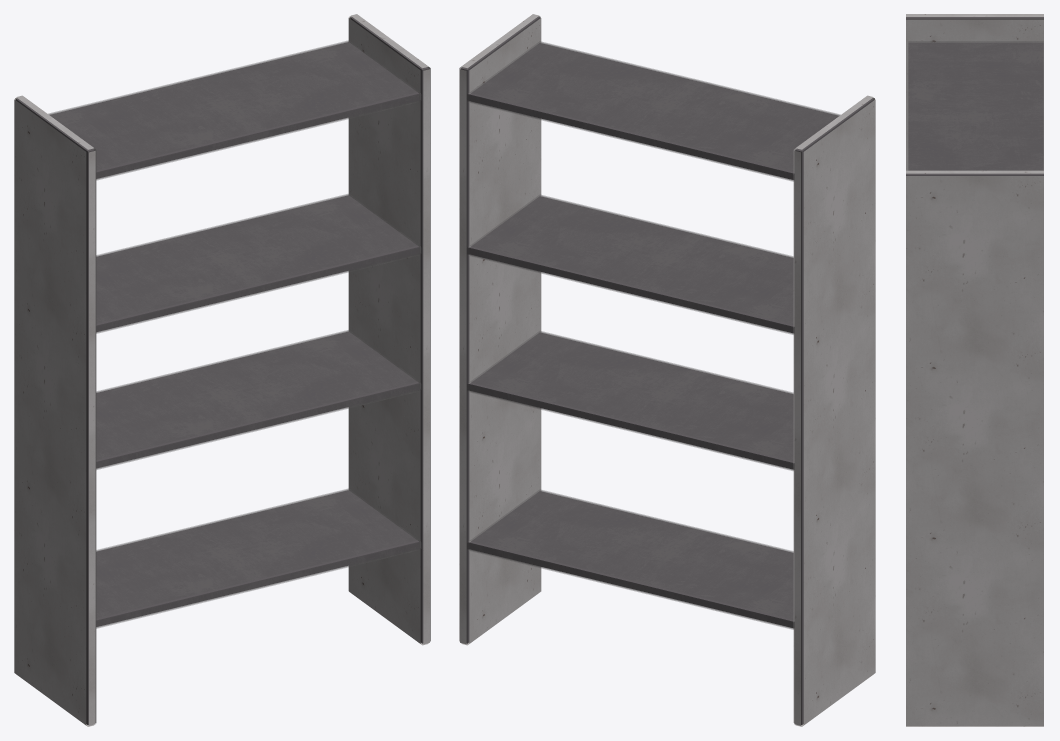
The picture shows the model from 3 angles, left to right: view 1: azimuth 30°, elevation 25°; view 2: azimuth 150°, elevation 25°; view 3: azimuth 270°, elevation 25°; orthographic projection. The views are drawn at different scales.
Visible parts, largest first — view 1: Mesh_0.005, Mesh_2.001, Mesh_1.001; view 2: Mesh_0.005, Mesh_2.001, Mesh_1.001; view 3: Mesh_1.001, Mesh_0.005, Mesh_2.001.
Boxes of the visible parts, bbox=[...] form: Mesh_0.005: bbox=[16, 17, 428, 724]; Mesh_2.001: bbox=[48, 40, 421, 628]; Mesh_1.001: bbox=[14, 14, 430, 726]; Mesh_0.005: bbox=[461, 17, 873, 724]; Mesh_2.001: bbox=[467, 41, 840, 629]; Mesh_1.001: bbox=[459, 14, 875, 726]; Mesh_1.001: bbox=[906, 14, 1043, 726]; Mesh_0.005: bbox=[906, 17, 1043, 175]; Mesh_2.001: bbox=[908, 41, 1043, 170].
Size of the model in its own units: 4.06 by 6.5 by 1.51.
3 materials, 2 textured.
